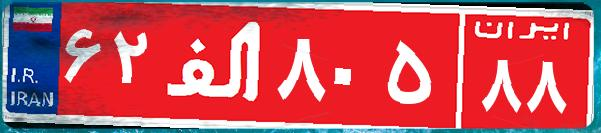0: (330, 28, 385, 110)
2: (110, 28, 158, 105)
5: (385, 28, 445, 110)
6: (57, 26, 110, 107)
8: (273, 28, 330, 110), (475, 38, 525, 113), (525, 38, 570, 115)
الف: (158, 15, 273, 115)
